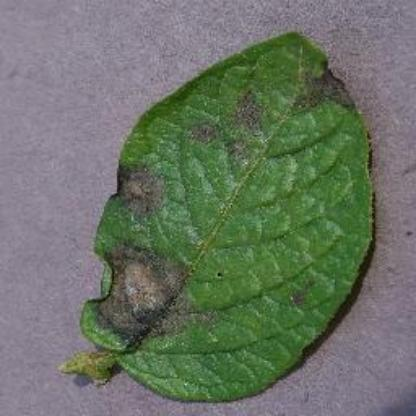Late-Blight: (54, 19, 384, 406)
